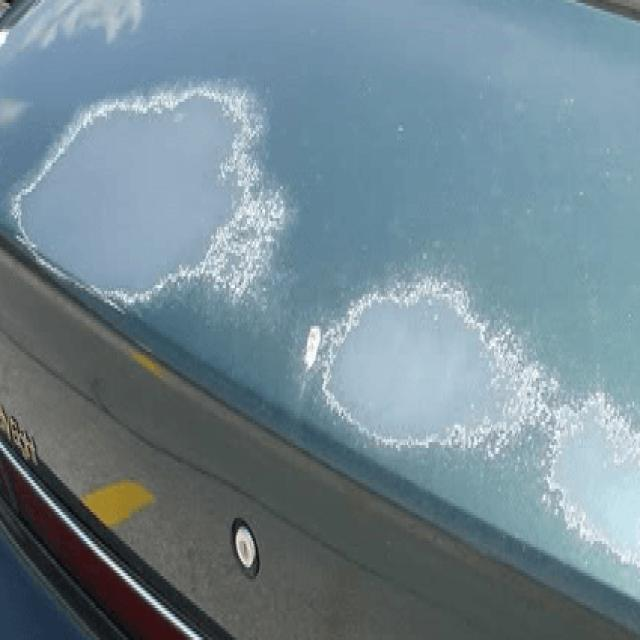Paint-fading: (14, 84, 285, 305), (304, 276, 556, 454), (547, 393, 638, 567)
